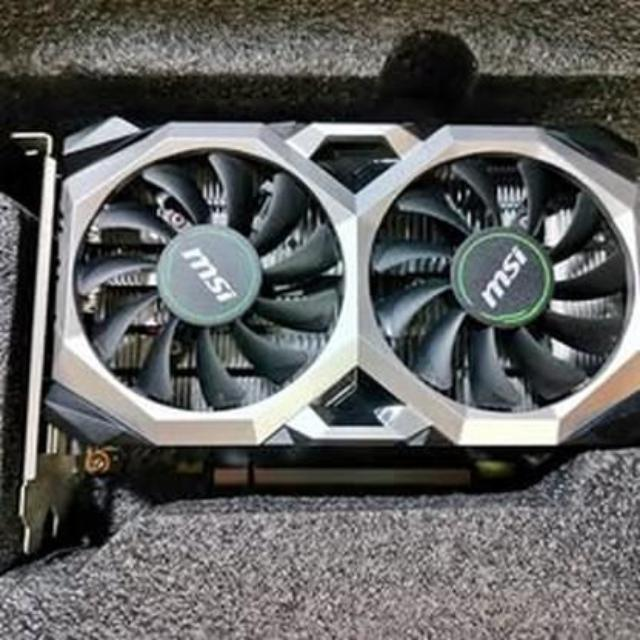GPU: (0, 111, 640, 500)
